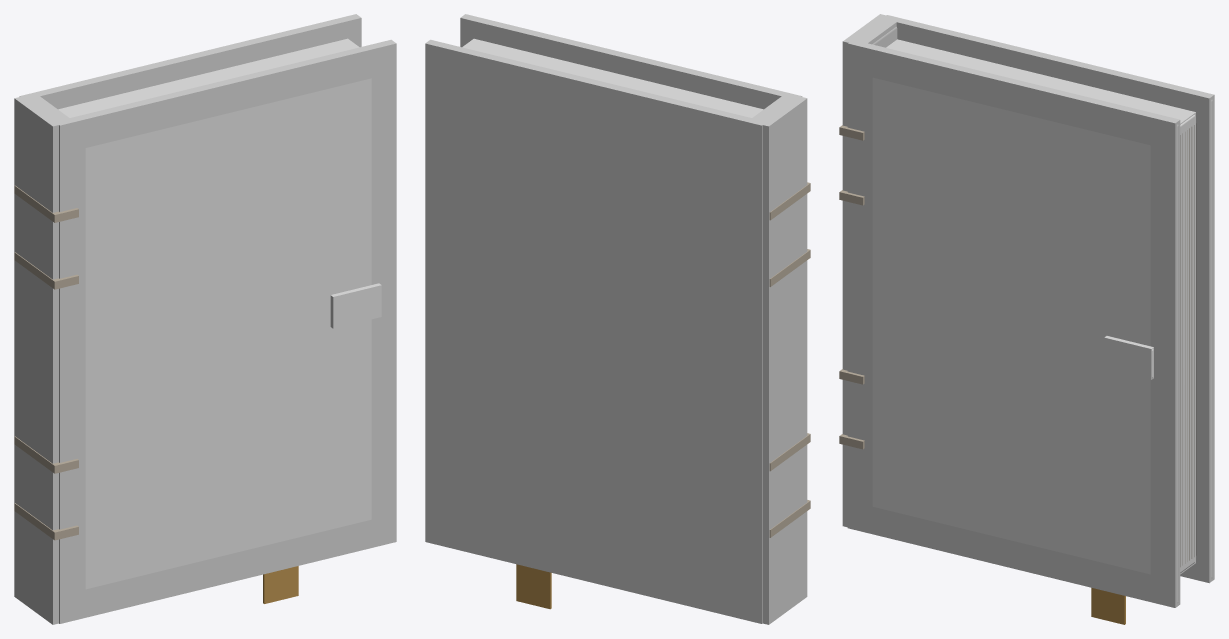
File: inspect_diary.glb
3 renders of one model, left to right at view 1: azimuth 30°, elevation 25°; view 2: azimuth 150°, elevation 25°; view 3: azimuth 330°, elevation 25°, orthographic. The views are drawn at different scales.
Parts seen in each view (by area): view 1: inspect_diary_lod-2, inspect_diary-2, inspect_diary_lod-1, inspect_diary-1, inspect_diary-0, inspect_diary_lod-4, inspect_diary_lod-0, inspect_diary-3, inspect_diary-5; view 2: inspect_diary_lod-1, inspect_diary-1, inspect_diary_lod-0, inspect_diary-0, inspect_diary-3; view 3: inspect_diary-2, inspect_diary_lod-2, inspect_diary_lod-1, inspect_diary-1, inspect_diary-0, inspect_diary_lod-0, inspect_diary-4, inspect_diary-5, inspect_diary-3, inspect_diary_lod-3, inspect_diary_lod-4.
Part boxes in pixels (x1,y1,x2,y2): inspect_diary_lod-2: (85, 103, 370, 589); inspect_diary-2: (86, 78, 371, 553); inspect_diary_lod-1: (14, 14, 396, 624); inspect_diary-1: (14, 23, 392, 600); inspect_diary-0: (60, 40, 356, 117); inspect_diary_lod-4: (330, 283, 381, 328); inspect_diary_lod-0: (58, 38, 359, 117); inspect_diary-3: (265, 566, 298, 603); inspect_diary-5: (336, 293, 366, 325); inspect_diary_lod-1: (425, 14, 807, 624); inspect_diary-1: (429, 23, 810, 594); inspect_diary_lod-0: (462, 38, 763, 117); inspect_diary-0: (464, 40, 761, 117); inspect_diary-3: (516, 564, 549, 608); inspect_diary-2: (873, 77, 1150, 574); inspect_diary_lod-2: (872, 78, 1149, 574); inspect_diary_lod-1: (842, 14, 1214, 607); inspect_diary-1: (839, 18, 1212, 602); inspect_diary-0: (890, 46, 1195, 572); inspect_diary_lod-0: (886, 39, 1195, 574); inspect_diary-4: (1180, 123, 1196, 566); inspect_diary-5: (1107, 340, 1153, 378); inspect_diary-3: (1095, 589, 1125, 624); inspect_diary_lod-3: (1091, 587, 1116, 621); inspect_diary_lod-4: (1104, 336, 1153, 379).
Size of the model in its own units: 0.1135 by 0.1735 by 0.0258.
